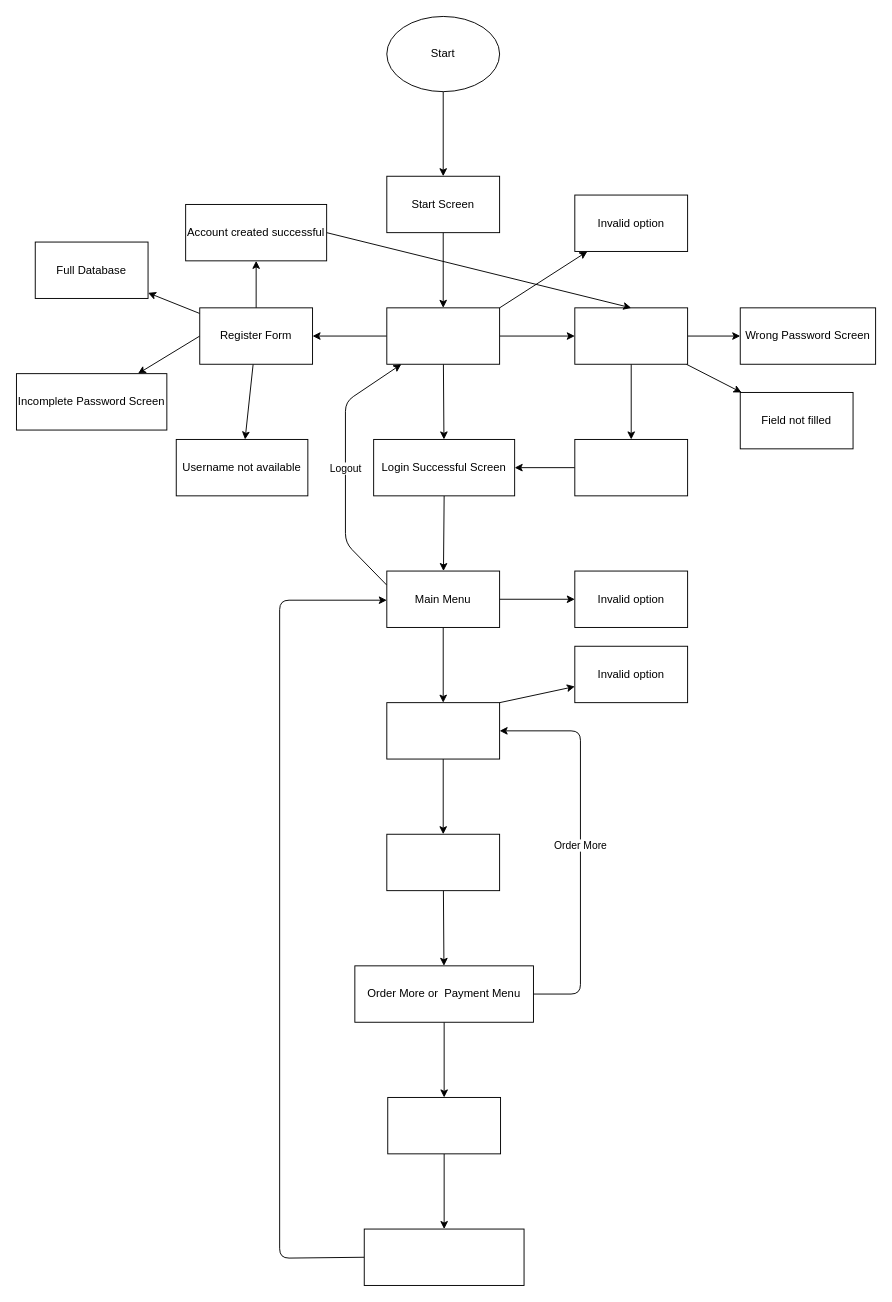
This 892x1302 diagram has some shape labels left out. Each missing label, with the centre of its shape:
"Login From" goes at (x=631, y=335).
"Login Menu" goes at (x=443, y=335).
"Login Successful" goes at (x=631, y=467).
"Payment Screen" goes at (x=444, y=1125).
"Payment Successful Screen" goes at (x=443, y=1256).
"Pizza Menu" goes at (x=443, y=730).
"Pizza Size Menu" goes at (x=443, y=862).
